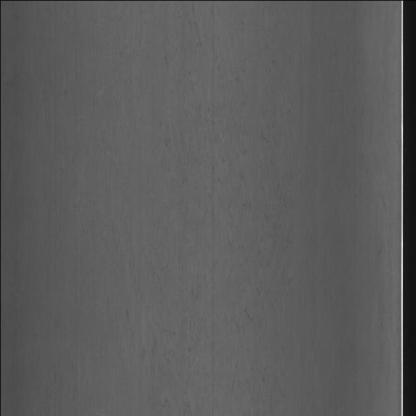silk_spot: (163, 69, 290, 342)
